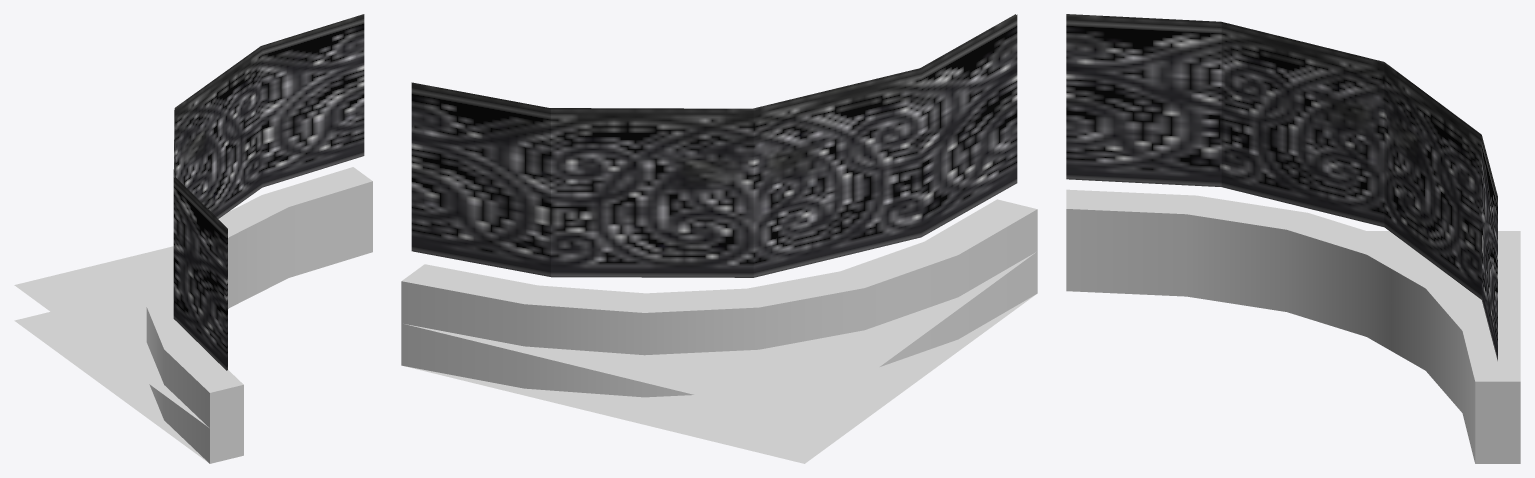
File: mansion_upper_floor_corner_in.fbx
3 renders of one model, left to right at view 1: azimuth 30°, elevation 25°; view 2: azimuth 150°, elevation 25°; view 3: azimuth 270°, elevation 25°, orthographic. The views are drawn at different scales.
Visible parts, largest first — view 1: mansion_upper_floor_corner_in; view 2: mansion_upper_floor_corner_in; view 3: mansion_upper_floor_corner_in.
Boxes of the visible parts, x1,y1,x2,y2 form: mansion_upper_floor_corner_in: (14,14,372,463); mansion_upper_floor_corner_in: (401,14,1037,463); mansion_upper_floor_corner_in: (1066,14,1520,463).
Size of the model in its own units: 201 by 130 by 200.
